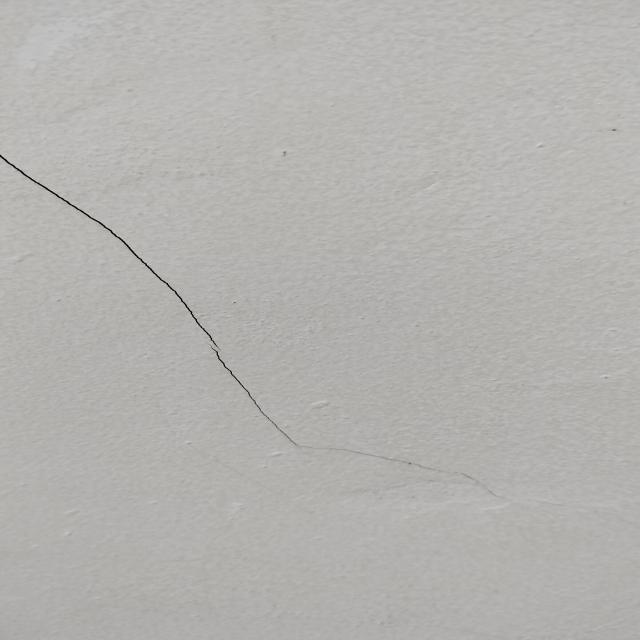Crack: (2, 155, 537, 504)
